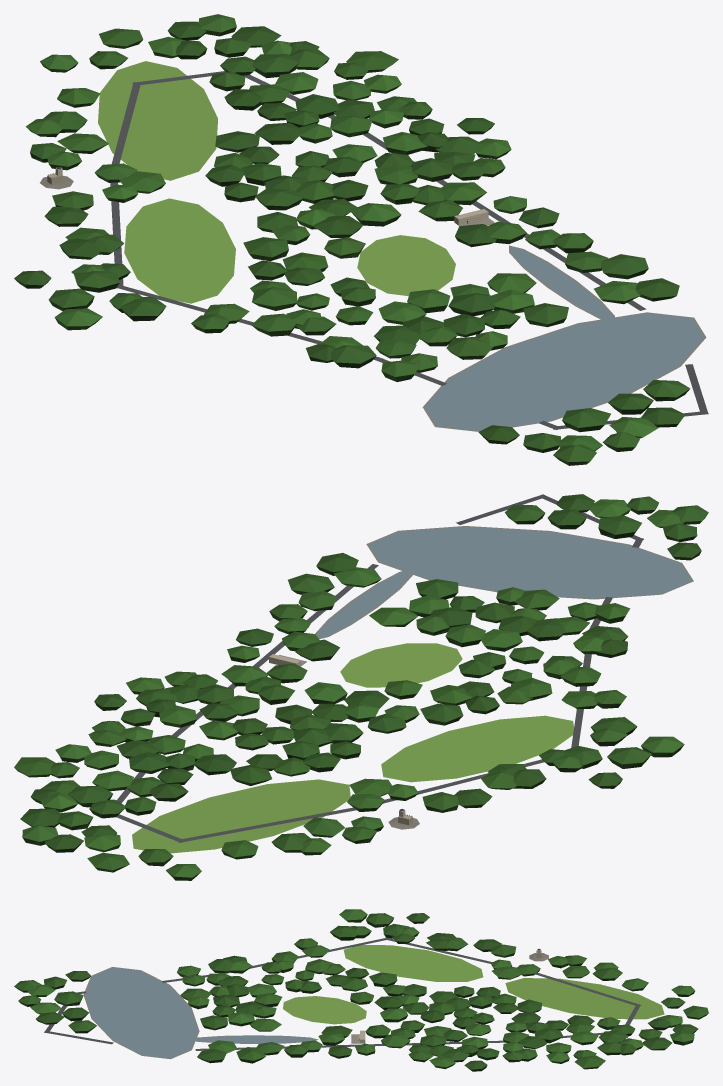
3 views of the same model, one above another, from view 1: azimuth 30°, elevation 25°; view 2: azimuth 150°, elevation 25°; view 3: azimuth 270°, elevation 25° (orthographic). The views are drawn at different scales.
Visible parts, largest first — view 1: prospect-park-lod1; view 2: prospect-park-lod1; view 3: prospect-park-lod1.
Boxes of the visible parts, x1=… form: prospect-park-lod1: x1=14, y1=14, x2=708, y2=465; prospect-park-lod1: x1=14, y1=494, x2=708, y2=880; prospect-park-lod1: x1=14, y1=909, x2=708, y2=1071.
Size of the model in its own units: 1420 by 37.92 by 2610.
